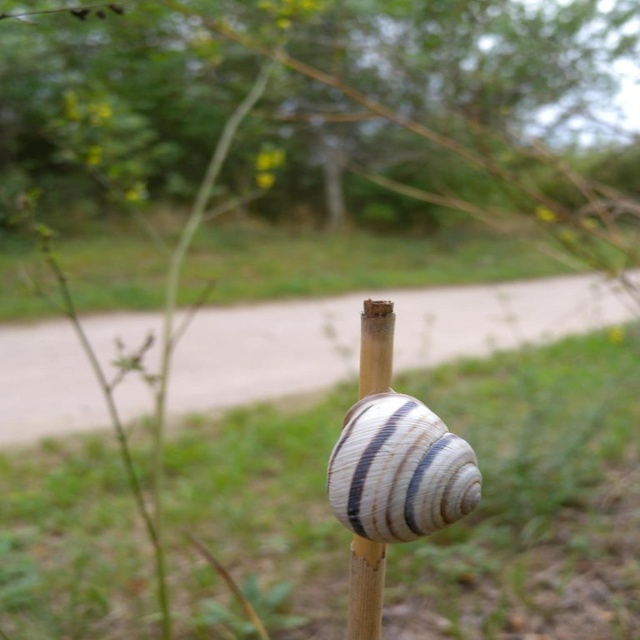Snail: (319, 385, 483, 545)
